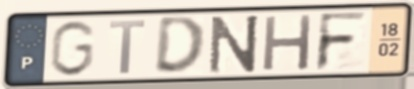D: (151, 14, 208, 78)
F: (313, 10, 371, 74)
G: (46, 19, 99, 79)
H: (260, 12, 316, 73)
N: (207, 12, 262, 76)
T: (107, 18, 149, 76)
